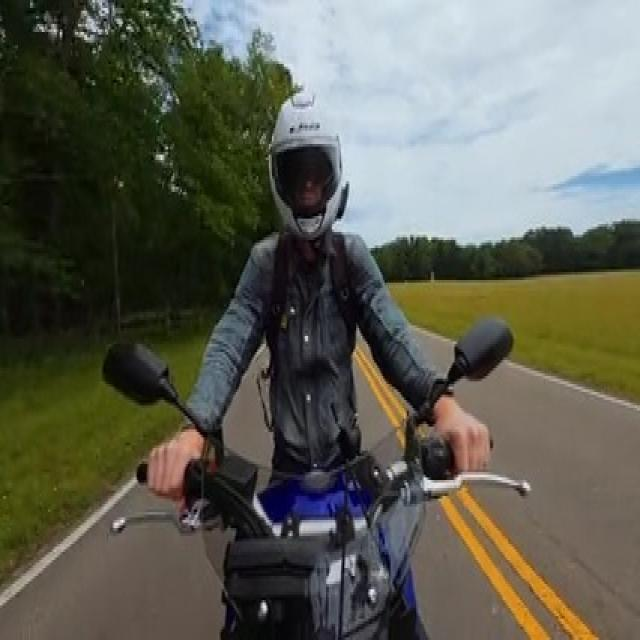Helmet_Wearer: (258, 67, 356, 238)
Person: (134, 79, 495, 497)
